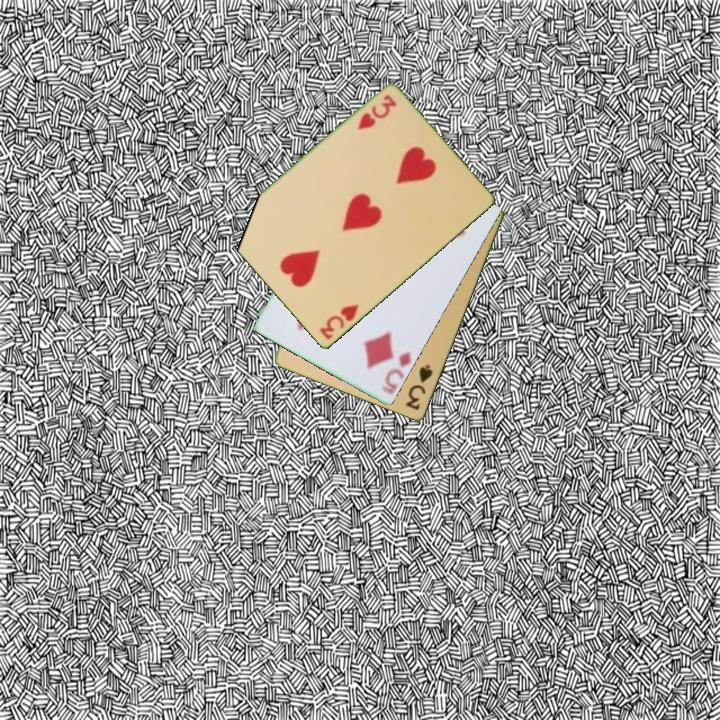3h: (354, 91, 400, 133), (316, 301, 361, 343)
3s: (402, 361, 436, 414)
5d: (379, 349, 414, 398)
